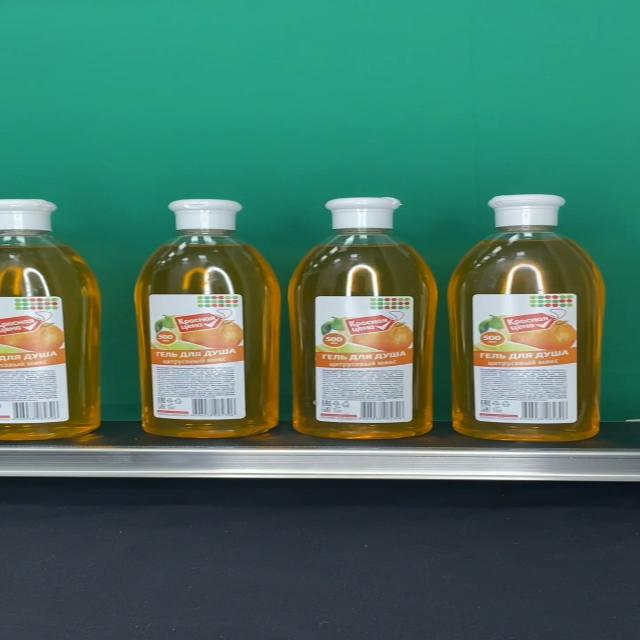Bottle: (447, 194, 606, 441), (289, 196, 439, 440), (133, 199, 282, 438)
Cap: (486, 194, 566, 227), (324, 197, 404, 229), (167, 199, 242, 231)
